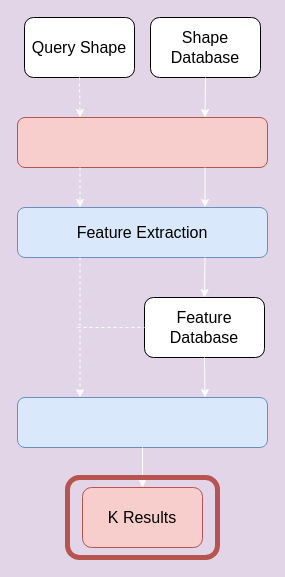
Some shapes in this 285 by 577 pixel diagram are drawn without their labels. Here are the shapes that lost their labels. From the top down, the box of each, then its label:
(16, 116, 268, 168): Preprocessing
(16, 396, 268, 448): Querying
